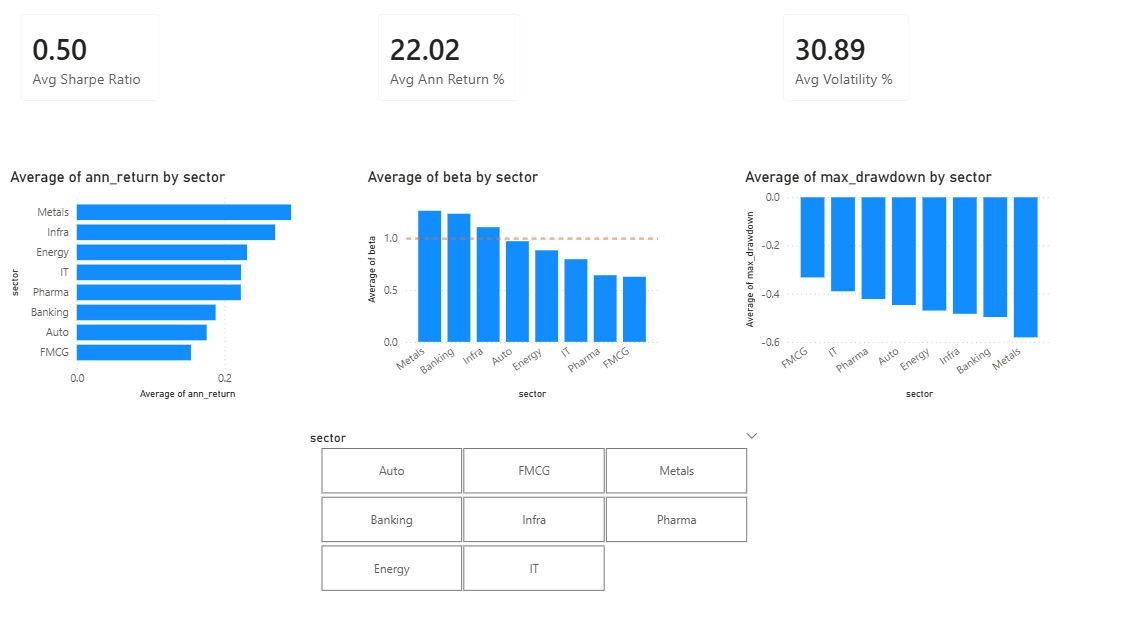

What the dashboard file says about the page in this screenshot:
{"tool":"powerbi","page":{"name":"Page 3","canvas":[1280,720],"ordinal":2},"visuals":[{"type":"clusteredBarChart","fields":{"Category":["stock_metrics.sector"],"Y":["Avg(stock_metrics.ann_return)"]},"box":[13.7,199,340.3,263.5],"z":0},{"type":"clusteredColumnChart","fields":{"Category":["stock_metrics.sector"],"Y":["Avg(stock_metrics.beta)"]},"box":[413,199,334.8,263.5],"z":1},{"type":"clusteredColumnChart","fields":{"Category":["stock_metrics.sector"],"Y":["Avg(stock_metrics.max_drawdown)"]},"box":[834.3,199,351.3,263.5],"z":2},{"type":"cardVisual","fields":{"Data":["stock_metrics.Avg Sharpe Ratio"]},"box":[13.7,11,189.4,131.7],"z":3},{"type":"cardVisual","fields":{"Data":["stock_metrics.Avg Ann Return %"]},"box":[413,11,193.5,131.7],"z":4},{"type":"cardVisual","fields":{"Data":["stock_metrics.Avg Volatility %"]},"box":[865.9,11,175.6,131.7],"z":5},{"type":"slicer","fields":{"Values":["stock_metrics.sector"]},"box":[340.3,487.1,525.6,192.1],"z":6}]}

Visuals, with their boxes in screenshot pixels (x1, y1, x2, y2), scaled from the page's 1280x720 canvas onto the 1123x617 screenshot:
clusteredBarChart - stock_metrics.sector x Avg(stock_metrics.ann_return): (12,171,311,396)
clusteredColumnChart - stock_metrics.sector x Avg(stock_metrics.beta): (362,171,656,396)
clusteredColumnChart - stock_metrics.sector x Avg(stock_metrics.max_drawdown): (732,171,1040,396)
cardVisual - stock_metrics.Avg Sharpe Ratio: (12,9,178,122)
cardVisual - stock_metrics.Avg Ann Return %: (362,9,532,122)
cardVisual - stock_metrics.Avg Volatility %: (760,9,914,122)
slicer - stock_metrics.sector: (299,417,760,582)
